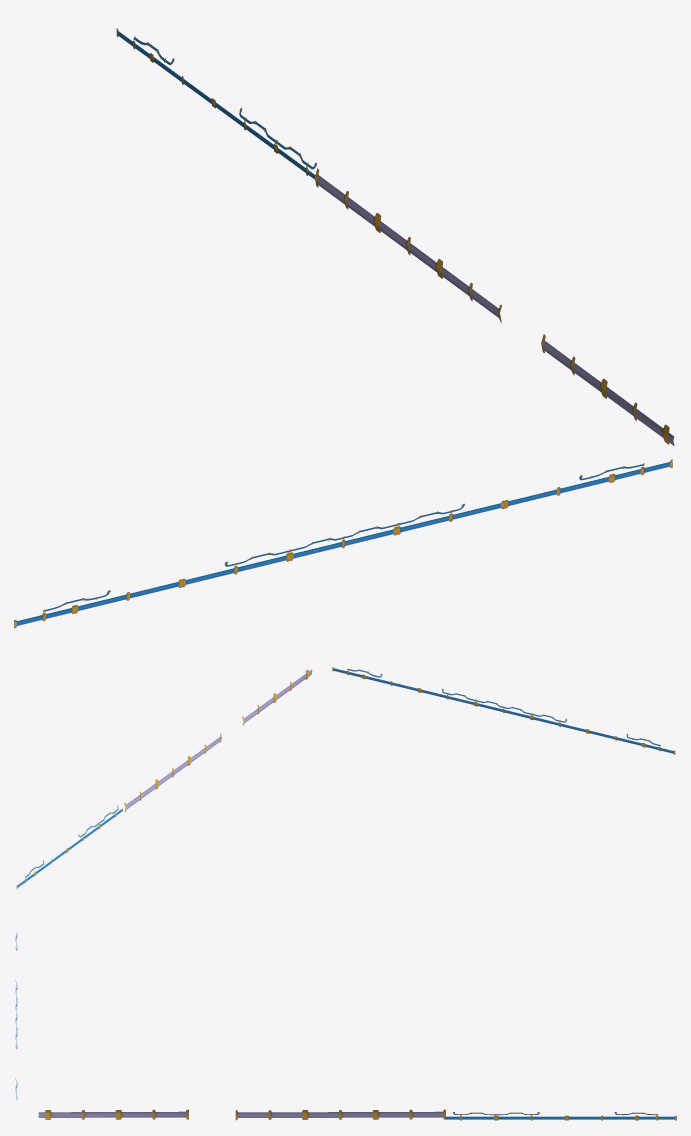
The model's file is Pipes_Level25.fbx.
The picture shows the model from 3 angles, top to bottom: view 1: azimuth 30°, elevation 25°; view 2: azimuth 150°, elevation 25°; view 3: azimuth 270°, elevation 25°; orthographic projection. The views are drawn at different scales.
Visible parts, largest first — view 1: Top_Pipes_2D_Blue (×2), Side_Pipes_2D_Creme (×2); view 2: Top_Pipes_2D_Blue (×2), Side_Pipes_2D_Creme (×2); view 3: Side_Pipes_2D_Creme (×2), Top_Pipes_2D_Blue.
Part boxes in pixels (left/top/right/bottom): Top_Pipes_2D_Blue (×2): left=14, top=28, right=672, bottom=628; Side_Pipes_2D_Creme (×2): left=314, top=168, right=674, bottom=445; Top_Pipes_2D_Blue (×2): left=16, top=667, right=675, bottom=888; Side_Pipes_2D_Creme (×2): left=124, top=669, right=312, bottom=811; Side_Pipes_2D_Creme (×2): left=38, top=1109, right=445, bottom=1120; Top_Pipes_2D_Blue: left=445, top=1112, right=676, bottom=1120.
Bounding box in the file's own units: 470 × 15.71 × 690.
Materials: 1 (1 with a texture image).
